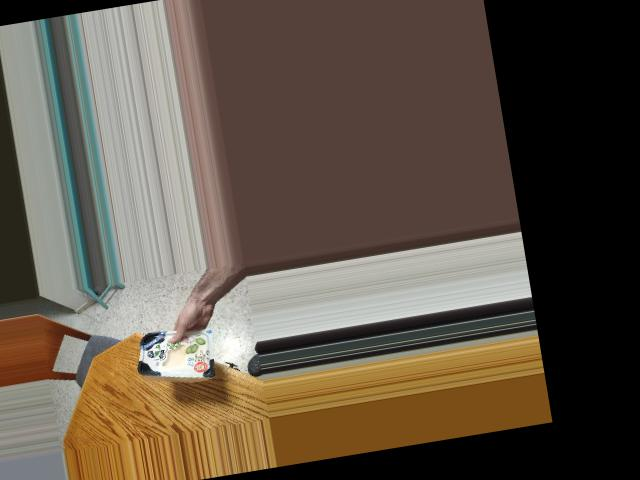cheese: (139, 317, 205, 387)
